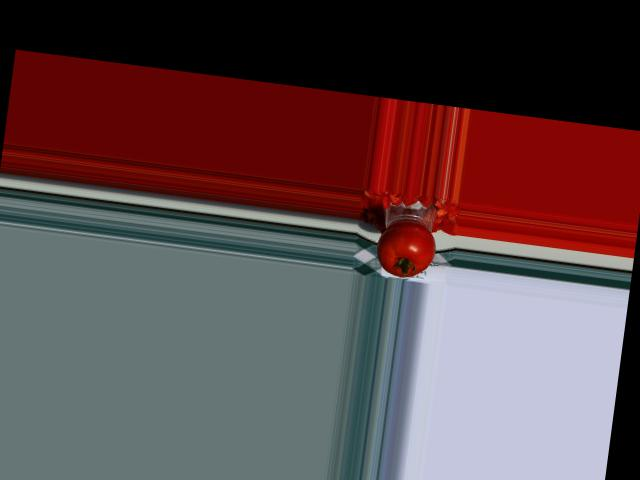tomato: (373, 218, 439, 281)
